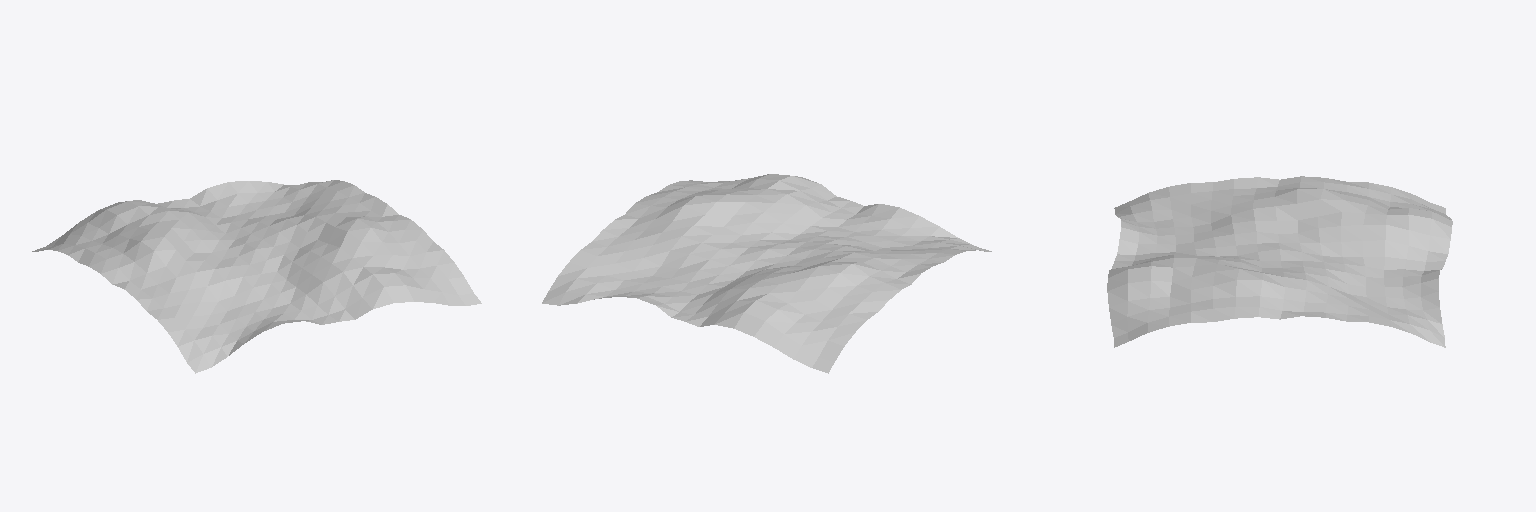
Rendered from water_000089.obj.
3 views of the same model, side by side, from view 1: azimuth 30°, elevation 25°; view 2: azimuth 150°, elevation 25°; view 3: azimuth 270°, elevation 25° (orthographic).
Visible parts, largest first — view 1: Plan.003_Plan.001; view 2: Plan.003_Plan.001; view 3: Plan.003_Plan.001.
Boxes of the visible parts, <box> form: Plan.003_Plan.001: <box>32,180,481,373</box>; Plan.003_Plan.001: <box>542,174,991,373</box>; Plan.003_Plan.001: <box>1107,176,1452,347</box>.
Size of the model in its own units: 60813 by 8810 by 62895.